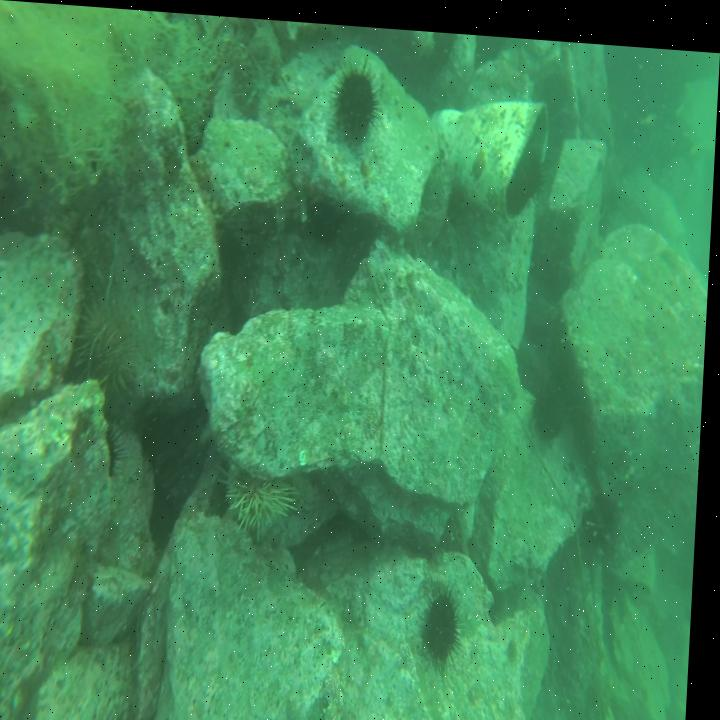echinus: (76, 289, 150, 404), (224, 464, 309, 537), (327, 59, 390, 146), (428, 575, 470, 658), (538, 373, 575, 441), (100, 420, 134, 481), (518, 141, 550, 199)
holothurian: (228, 34, 277, 103)
